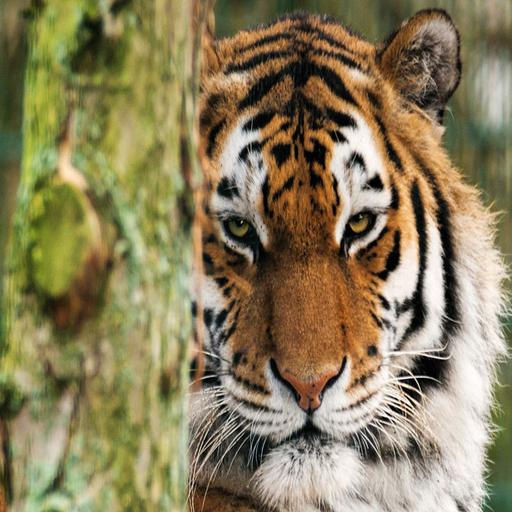Tiger: (95, 0, 512, 512)
